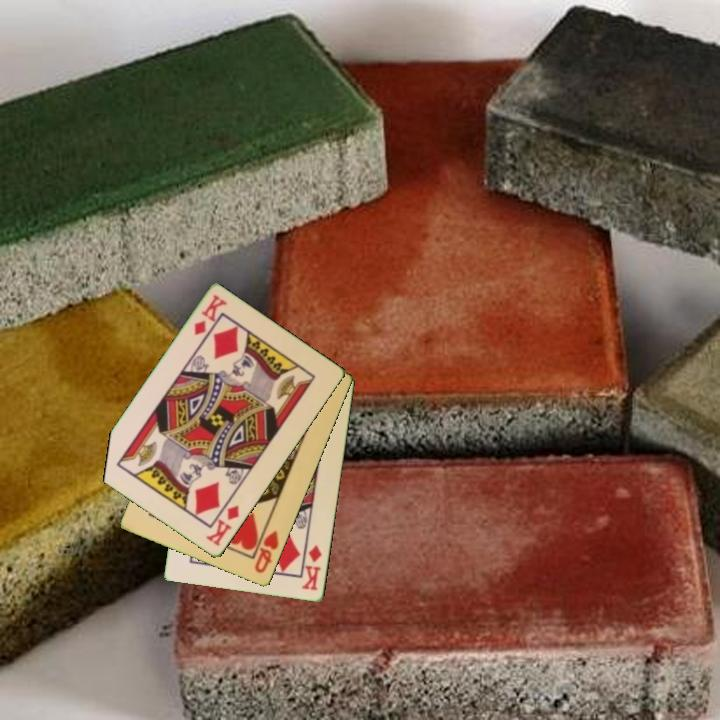Kd: (202, 502, 242, 550), (191, 291, 230, 339), (299, 541, 325, 593)
Qh: (251, 527, 282, 576)
